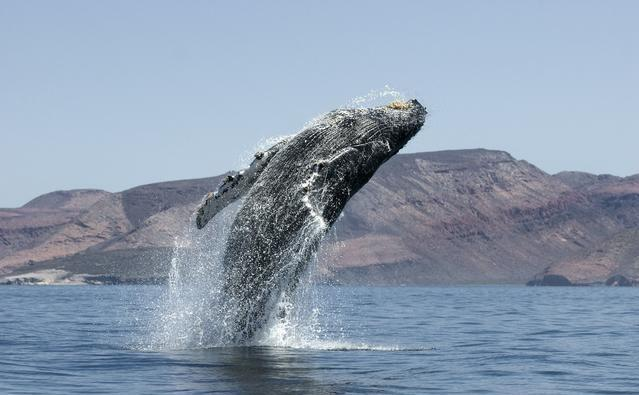fish: (169, 94, 430, 346)
